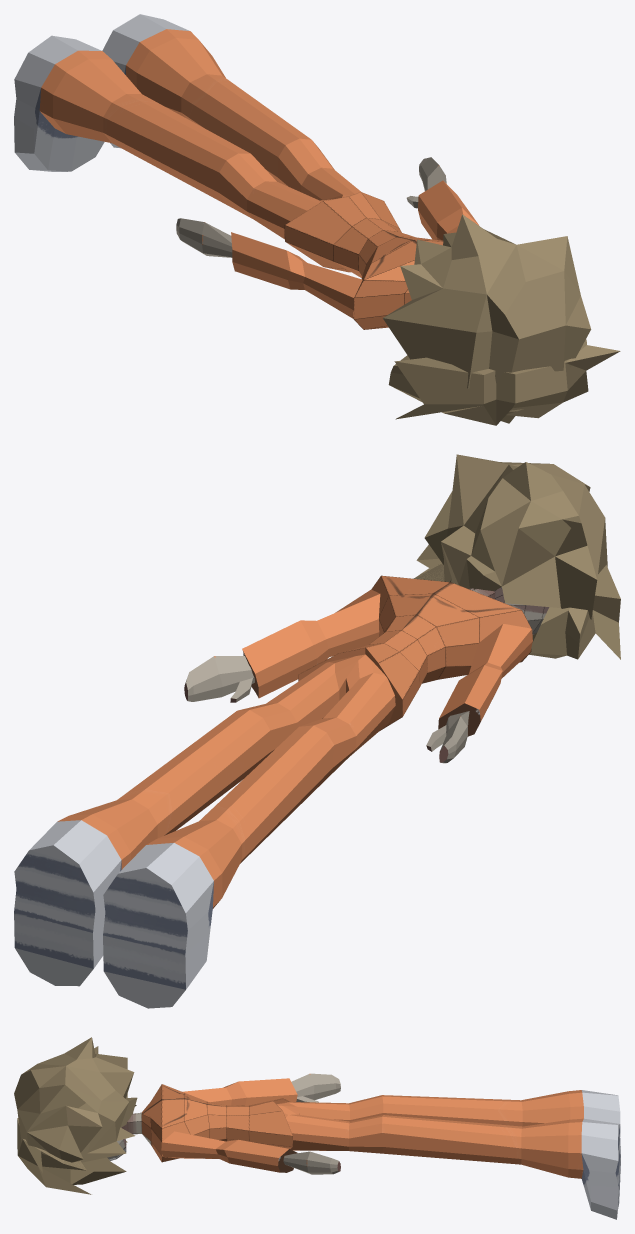
Rendered from Nolan .fbx.
The picture shows the model from 3 angles, top to bottom: view 1: azimuth 30°, elevation 25°; view 2: azimuth 150°, elevation 25°; view 3: azimuth 270°, elevation 25°; orthographic projection. The views are drawn at different scales.
Visible parts, largest first — view 1: Cylinder, Plane.001, Torso, Torso.001; view 2: Cylinder, Plane.001, Torso.001, Torso; view 3: Cylinder, Plane.001, Torso.001, Torso.
Part boxes in pixels (x1,y1,x2,y2): Cylinder: [14, 14, 360, 239]; Plane.001: [383, 214, 620, 425]; Torso: [284, 192, 443, 329]; Torso.001: [176, 157, 479, 318]; Cylinder: [14, 654, 395, 1008]; Plane.001: [414, 454, 620, 659]; Torso.001: [184, 589, 532, 763]; Torso: [298, 575, 531, 731]; Cylinder: [276, 1090, 620, 1219]; Plane.001: [14, 1037, 137, 1194]; Torso.001: [161, 1073, 340, 1174]; Torso: [122, 1084, 292, 1162].
Size of the model in its own units: 147 by 127 by 441.
Materials: 5 (5 with a texture image).
